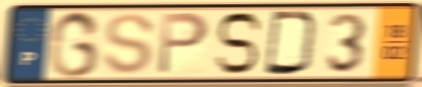3: (324, 11, 371, 75)
D: (262, 9, 322, 78)
G: (46, 9, 103, 81)
P: (155, 10, 212, 77)
S: (101, 11, 158, 77), (212, 10, 265, 77)
